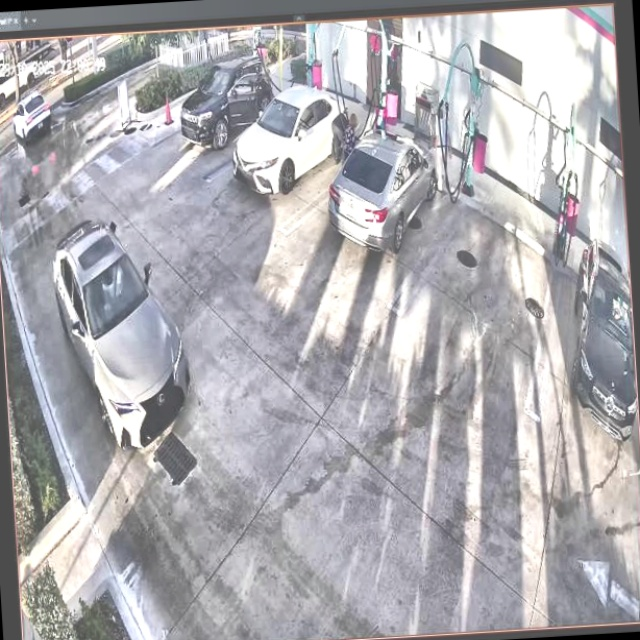Car: (51, 215, 197, 457), (325, 132, 442, 254), (231, 84, 354, 195), (179, 57, 276, 153)
